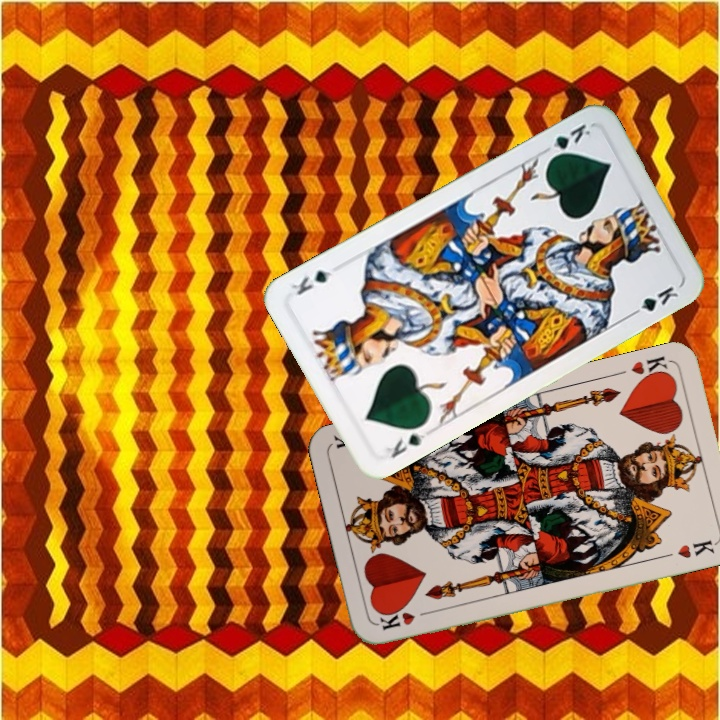GK: (539, 119, 594, 163), (382, 429, 428, 461)
HK: (375, 605, 434, 633), (627, 352, 673, 385)
